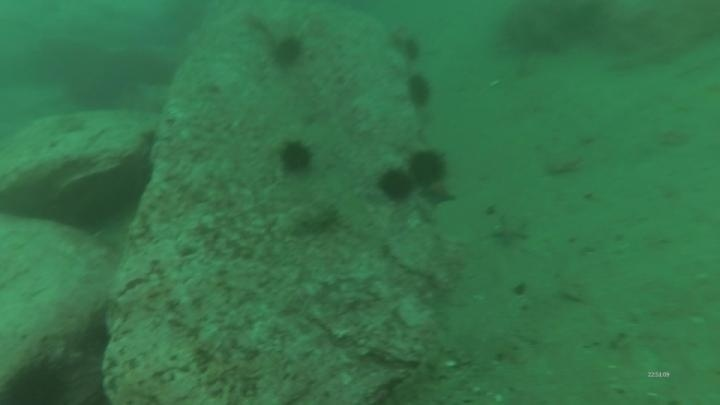echinus: (1, 356, 73, 405), (406, 148, 449, 187), (277, 139, 315, 176), (376, 167, 415, 203), (269, 34, 306, 70), (403, 72, 434, 111), (396, 34, 424, 64)
starfish: (487, 214, 532, 251), (419, 180, 458, 208)
